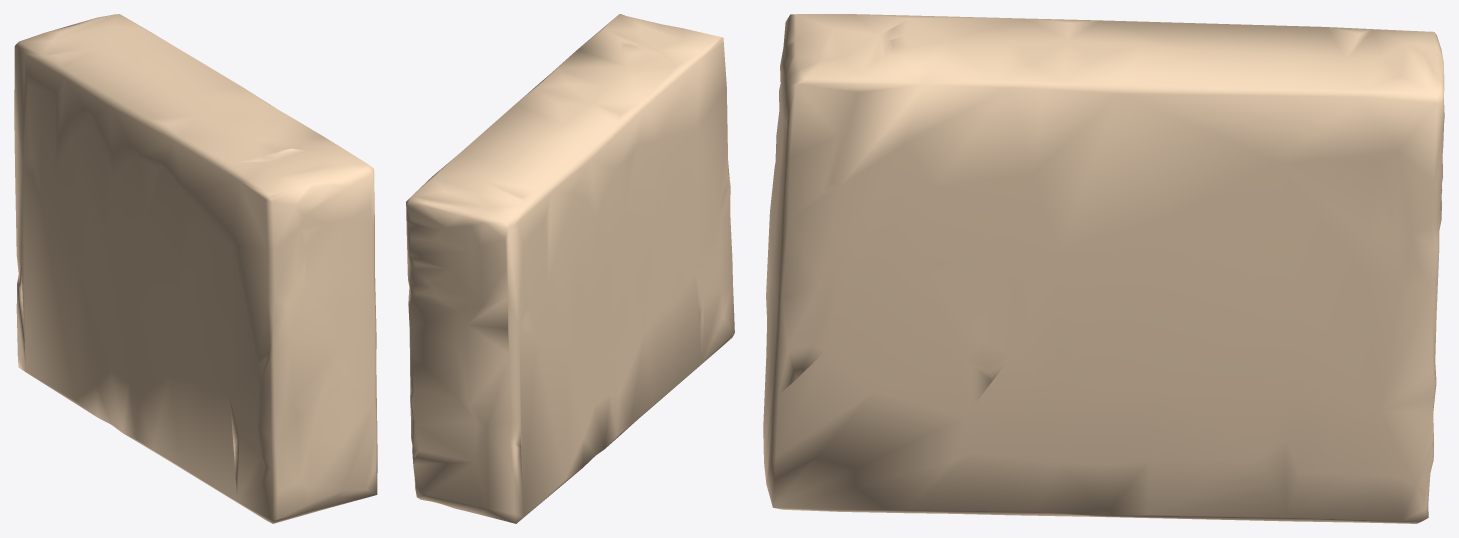
File: rectangularCube2_2.dae
3 views of the same model, side by side, from view 1: azimuth 30°, elevation 25°; view 2: azimuth 150°, elevation 25°; view 3: azimuth 270°, elevation 25° (orthographic). The views are drawn at different scales.
Visible parts, largest first — view 1: BroccoliSoup_800_tex_019; view 2: BroccoliSoup_800_tex_019; view 3: BroccoliSoup_800_tex_019.
Boxes of the visible parts, box(x1,y1,x2,y2) form: BroccoliSoup_800_tex_019: box(14, 14, 377, 523); BroccoliSoup_800_tex_019: box(406, 14, 734, 523); BroccoliSoup_800_tex_019: box(763, 14, 1444, 523).
Bounding box in the file's own units: 0.0168 × 0.0597 × 0.045.
